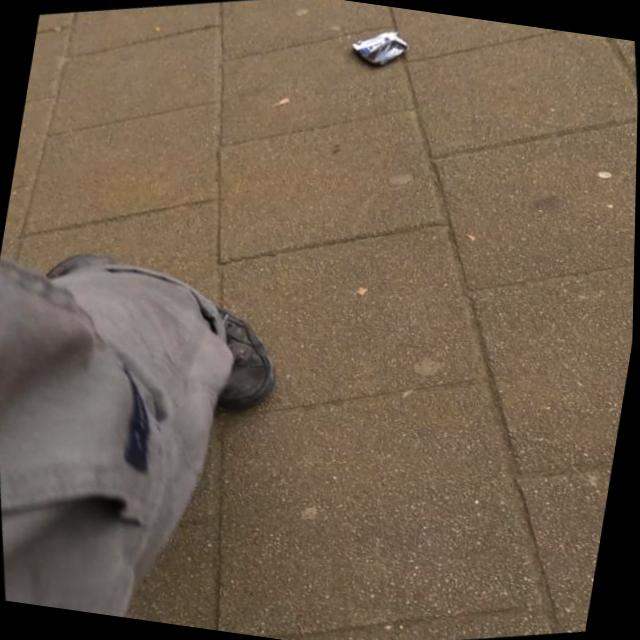Paper: (347, 21, 414, 72)
